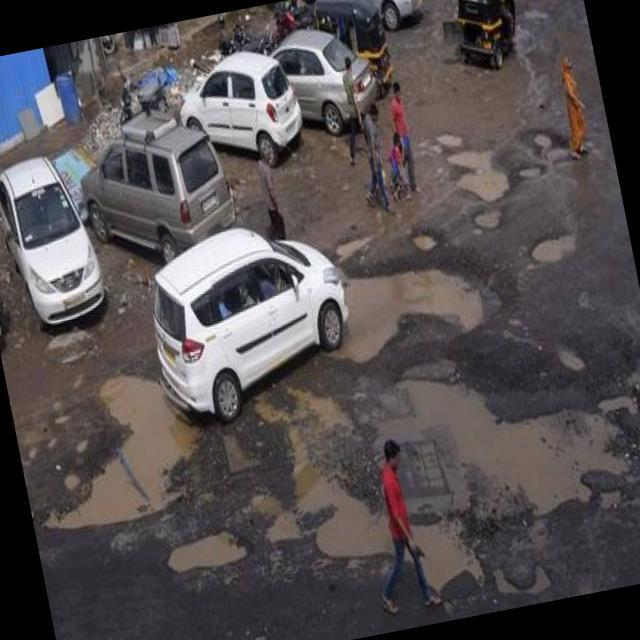Pothole: (231, 311, 640, 640), (246, 202, 512, 382), (9, 348, 221, 547), (422, 120, 532, 236), (152, 518, 246, 584), (514, 214, 594, 274), (522, 118, 592, 180), (403, 214, 454, 258), (514, 158, 554, 188)
